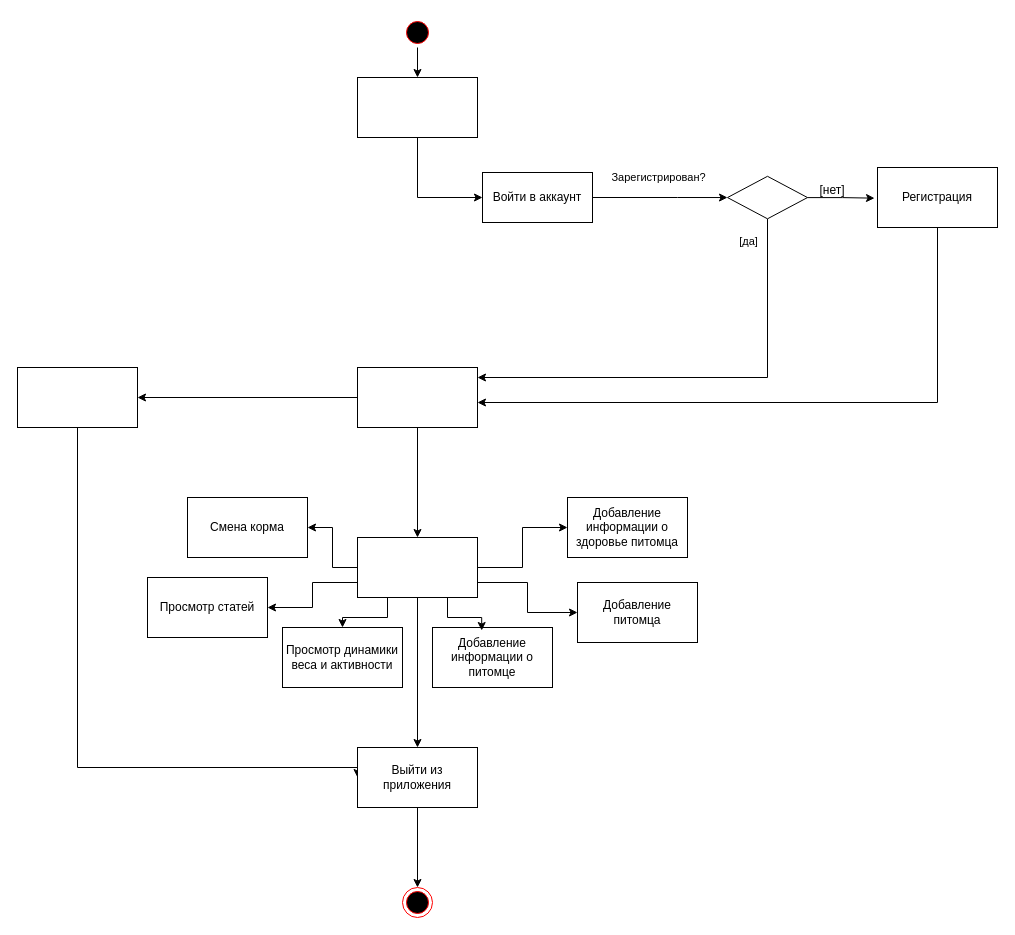
Some shapes in this 1015 by 935 pixel diagram are drawn without their labels. The box of each missing label's shape, as (x1, y1, x2, y2) in pixels:
Аккаунт пользователя: (356, 536, 478, 598)
Вход в аккаунт: (356, 366, 478, 428)
Запуск приложения: (356, 76, 478, 138)
Редактировать профиль: (16, 366, 138, 428)
